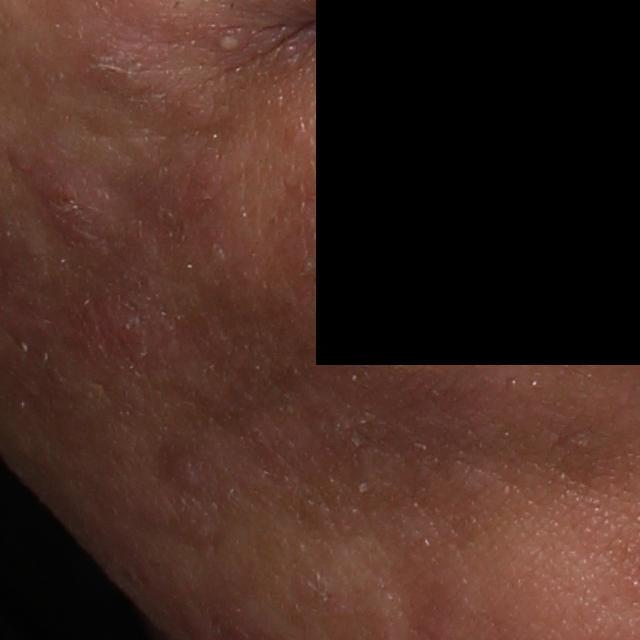papule: (16, 173, 106, 250)
pustule: (216, 26, 253, 60)
